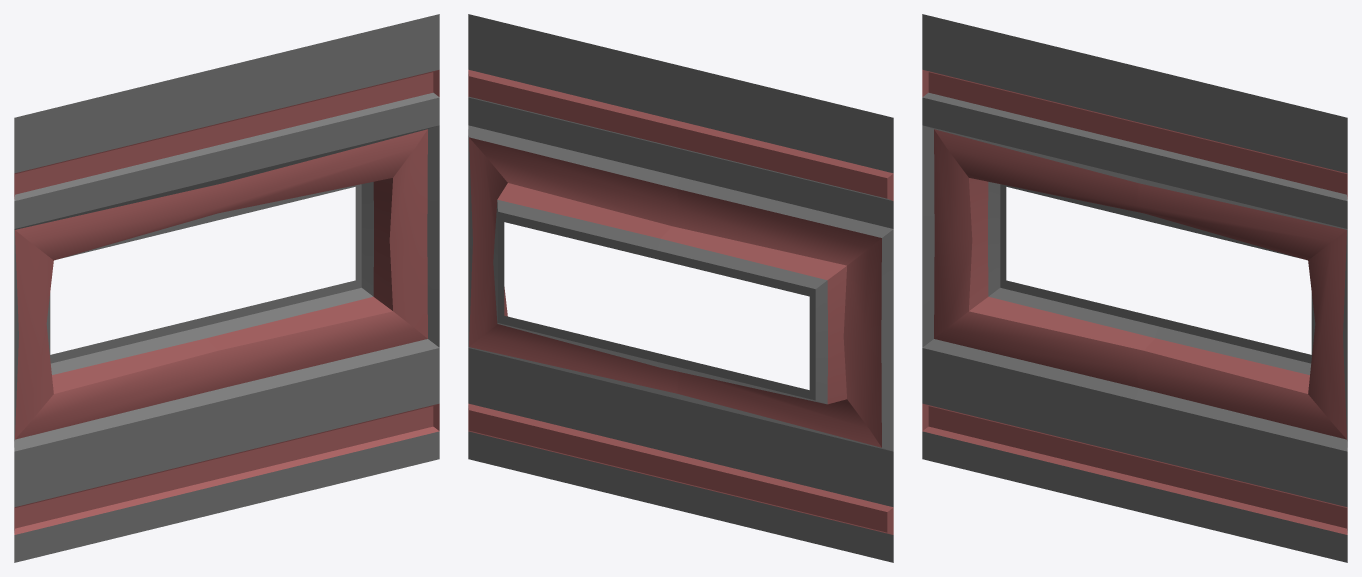
The model's file is SM_Module_1.fbx.
3 renders of one model, left to right at view 1: azimuth 30°, elevation 25°; view 2: azimuth 150°, elevation 25°; view 3: azimuth 330°, elevation 25°, orthographic.
Parts seen in each view (by area): view 1: SM_Module_1; view 2: SM_Module_1; view 3: SM_Module_1.
Boxes of the visible parts, x1=… form: SM_Module_1: x1=14, y1=14, x2=439, y2=562; SM_Module_1: x1=468, y1=14, x2=893, y2=562; SM_Module_1: x1=922, y1=14, x2=1347, y2=562.
Size of the model in its own units: 300 by 300 by 29.42.
